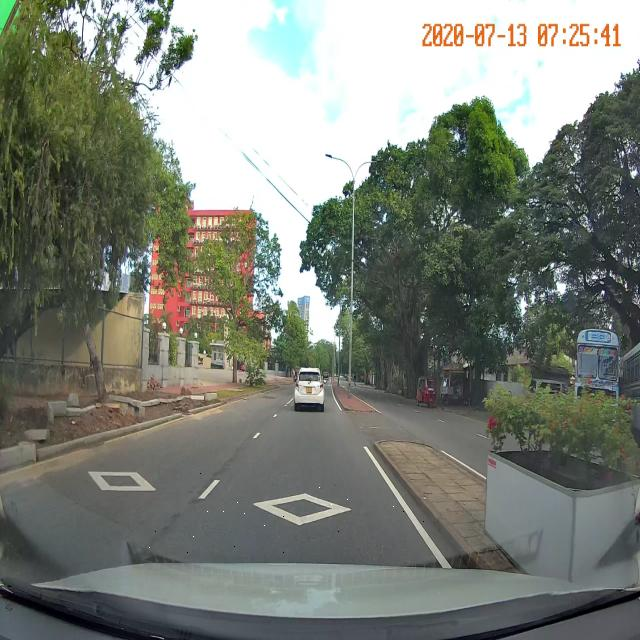diamond: (150, 468, 438, 553)
